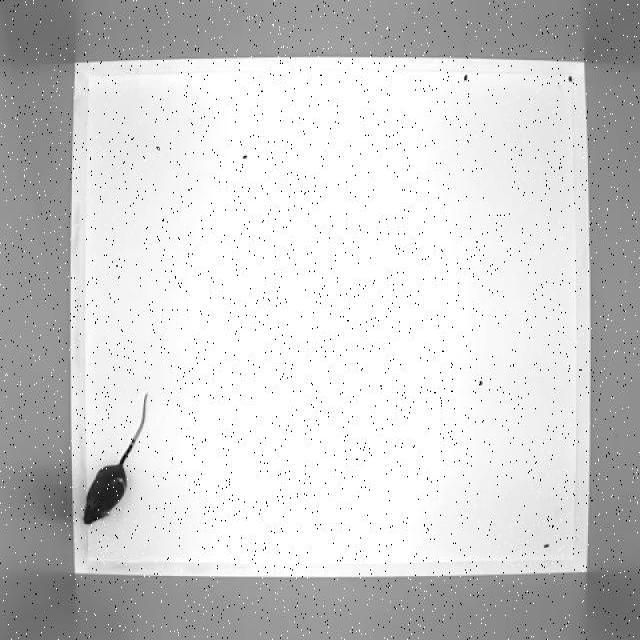rat: (83, 390, 148, 526)
